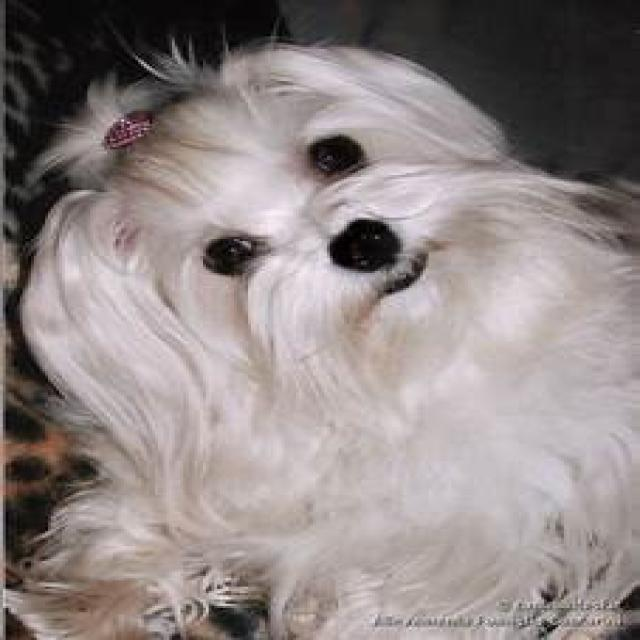dog: (3, 43, 640, 640)
